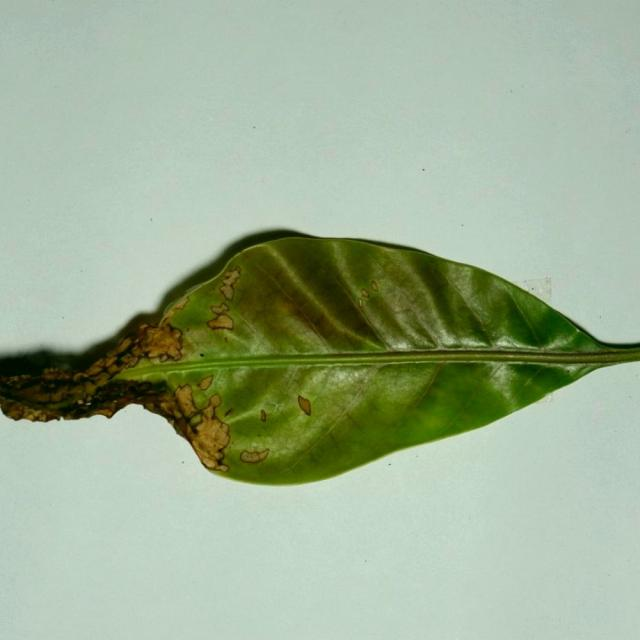Anthracnose: (238, 387, 314, 465), (2, 369, 114, 418), (185, 408, 233, 470), (177, 387, 221, 440), (1, 393, 68, 423), (136, 322, 185, 361), (30, 366, 78, 387), (218, 265, 241, 302), (206, 304, 235, 333), (161, 295, 189, 325), (355, 280, 379, 311), (238, 447, 270, 464), (174, 414, 194, 439), (110, 338, 134, 357), (175, 384, 195, 405), (297, 395, 312, 416), (105, 359, 123, 375), (135, 324, 155, 338), (225, 265, 242, 281), (197, 375, 214, 390), (209, 303, 230, 315), (93, 372, 110, 385), (173, 407, 182, 420), (260, 409, 267, 422), (370, 280, 378, 291), (357, 299, 363, 308)
Mango: (0, 230, 639, 489)
